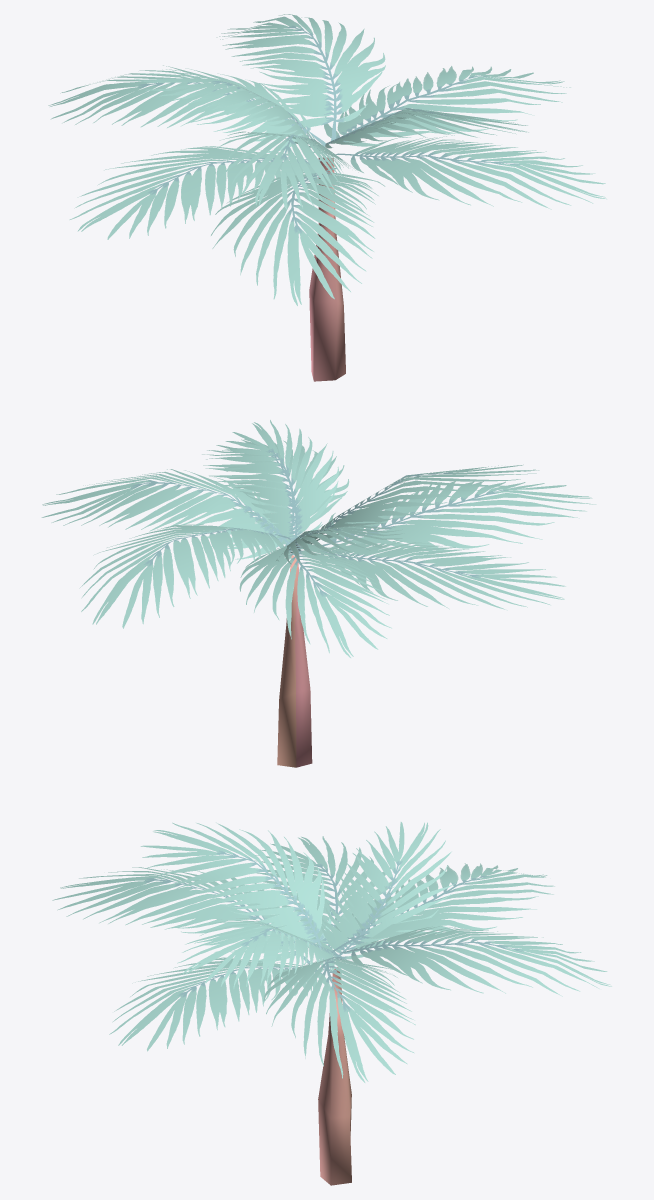
File: lod1palmtree1.fbx
The picture shows the model from 3 angles, top to bottom: view 1: azimuth 30°, elevation 25°; view 2: azimuth 150°, elevation 25°; view 3: azimuth 270°, elevation 25°; orthographic projection. The views are drawn at different scales.
Parts seen in each view (by area): view 1: leaf2.035; view 2: leaf2.035; view 3: leaf2.035.
Boxes of the visible parts, x1,y1,x2,y2 form: leaf2.035: (48,14,606,381); leaf2.035: (41,420,596,767); leaf2.035: (52,822,611,1185).
Size of the model in its own units: 486 by 263 by 511.
